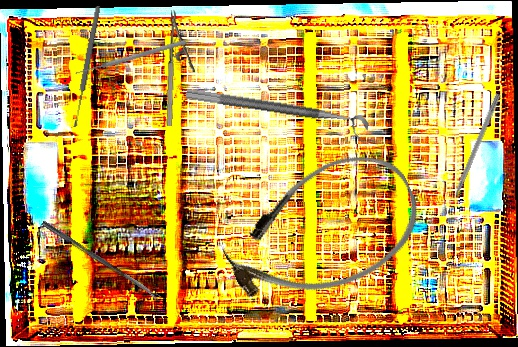Cannula: (207, 135, 437, 327)
Fixation Ring: (183, 87, 370, 144)
Needle Holder: (162, 10, 200, 128)
Pusher: (445, 92, 502, 211), (74, 38, 187, 77)
Surgical Spoon: (40, 220, 162, 302), (71, 5, 102, 128)
